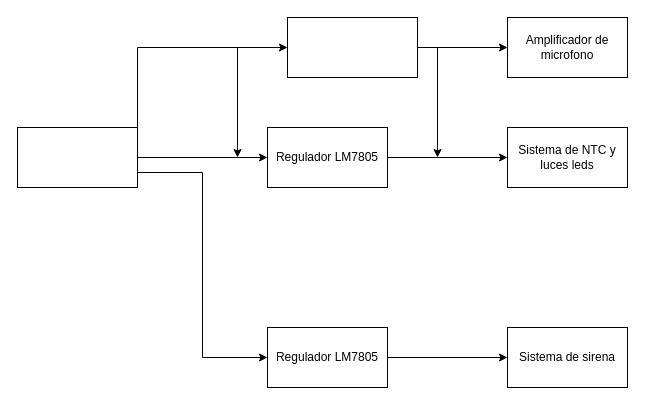
Image size: 645x405. Some labels were removed from this diagram. Each missing label, with the box of its shape:
Fuente de alimentacion: (16, 126, 138, 188)
Regulador LM1117DT: (286, 16, 418, 78)
